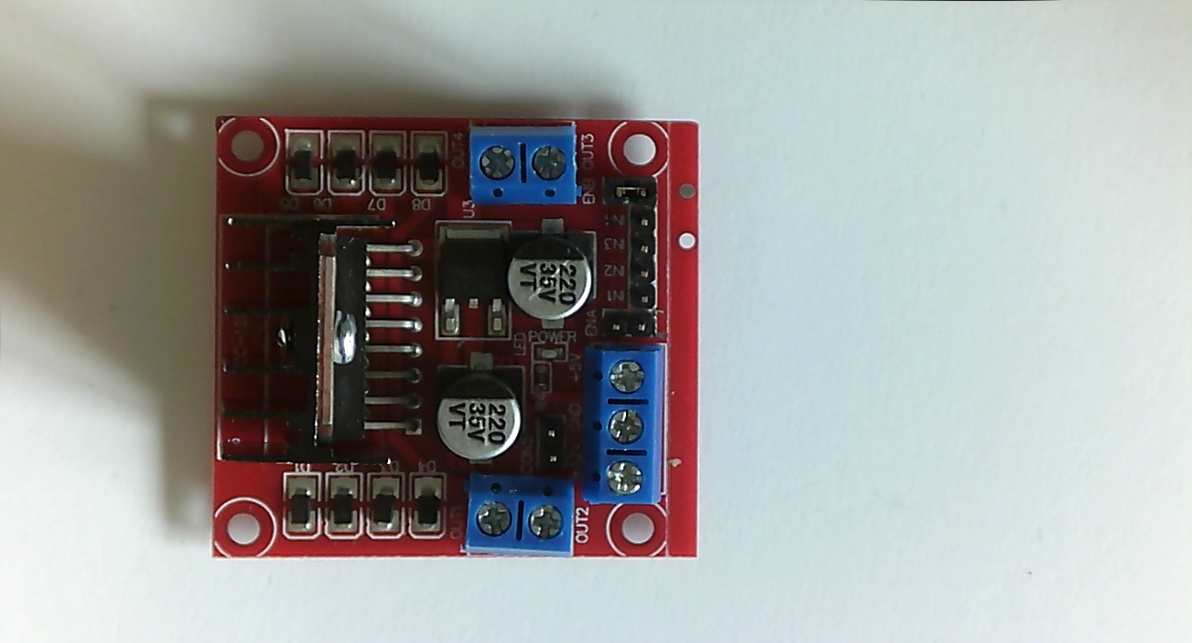IC: (226, 216, 423, 462), (435, 221, 515, 341)
LED: (530, 342, 570, 364)
capacitor: (428, 350, 529, 469), (508, 216, 601, 329)
connector: (583, 344, 662, 516), (465, 474, 581, 560), (464, 124, 578, 211), (631, 210, 659, 313), (604, 175, 661, 208), (534, 420, 572, 469), (605, 314, 659, 339)
diode: (284, 129, 323, 193), (368, 128, 406, 191), (329, 129, 366, 193), (366, 472, 405, 532), (409, 474, 445, 534), (412, 131, 448, 190), (327, 473, 361, 534), (285, 474, 319, 531)
resistor: (530, 363, 552, 394)
